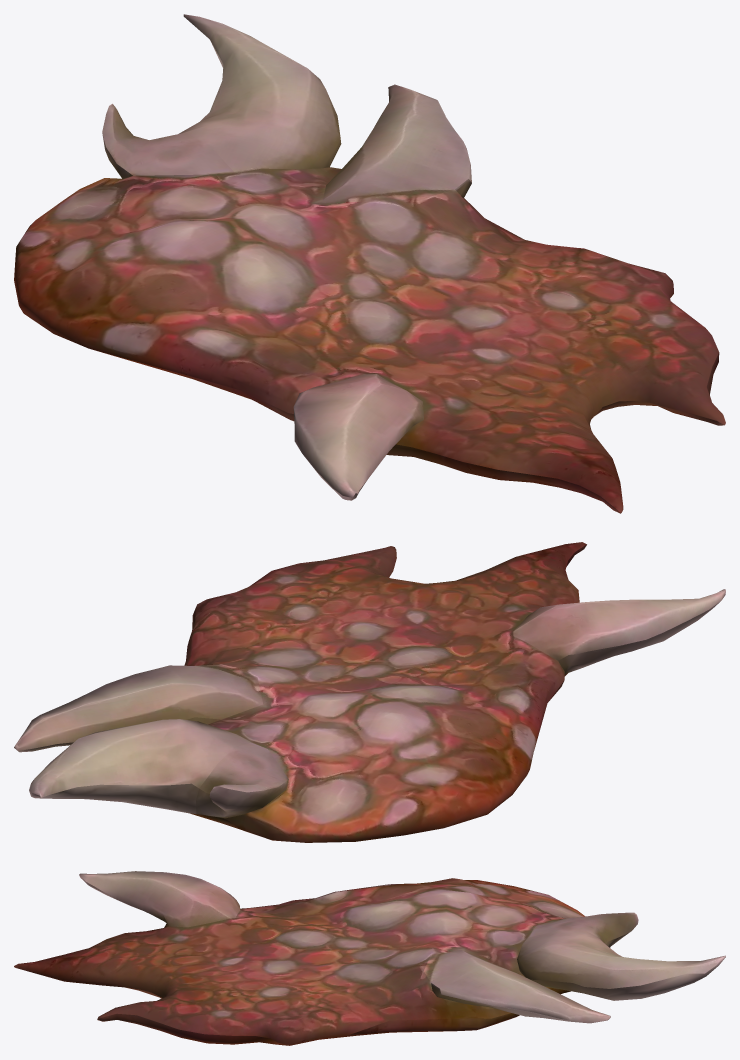
3 views of the same model, one above another, from view 1: azimuth 30°, elevation 25°; view 2: azimuth 150°, elevation 25°; view 3: azimuth 270°, elevation 25° (orthographic). The views are drawn at different scales.
Parts seen in each view (by area): view 1: SM_Dragon_Hide_Red_01_LOD0; view 2: SM_Dragon_Hide_Red_01_LOD0; view 3: SM_Dragon_Hide_Red_01_LOD0.
Part boxes in pixels (bbox=[...]): SM_Dragon_Hide_Red_01_LOD0: bbox=[14, 14, 725, 513]; SM_Dragon_Hide_Red_01_LOD0: bbox=[14, 542, 725, 842]; SM_Dragon_Hide_Red_01_LOD0: bbox=[14, 871, 725, 1045].
Size of the model in its own units: 0.4668 by 0.0753 by 0.8784.
1 material, 1 textured.
